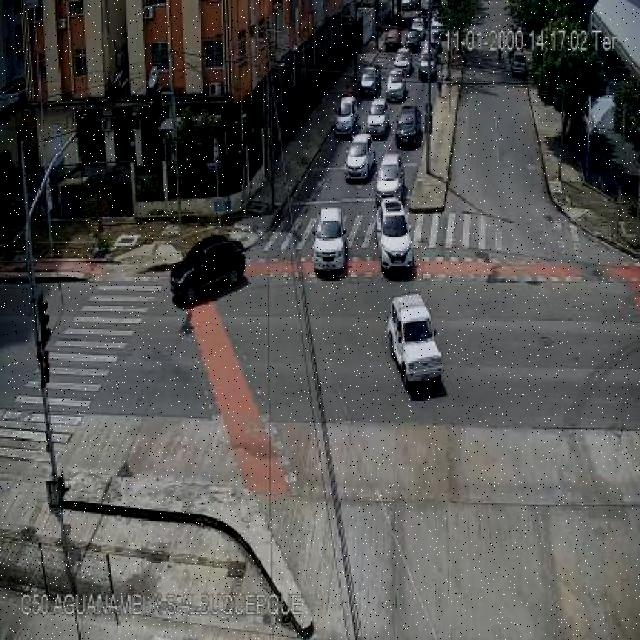Car: (170, 235, 248, 303), (387, 293, 444, 386), (377, 203, 415, 274), (311, 208, 348, 276), (375, 151, 404, 202), (345, 133, 376, 180), (334, 94, 360, 136), (396, 105, 422, 147), (378, 197, 408, 231), (366, 99, 390, 137), (359, 66, 381, 97), (417, 46, 437, 80), (385, 72, 407, 102), (392, 48, 412, 75), (510, 52, 528, 78), (383, 28, 402, 52), (429, 19, 446, 45), (405, 29, 423, 52), (410, 17, 425, 37)
